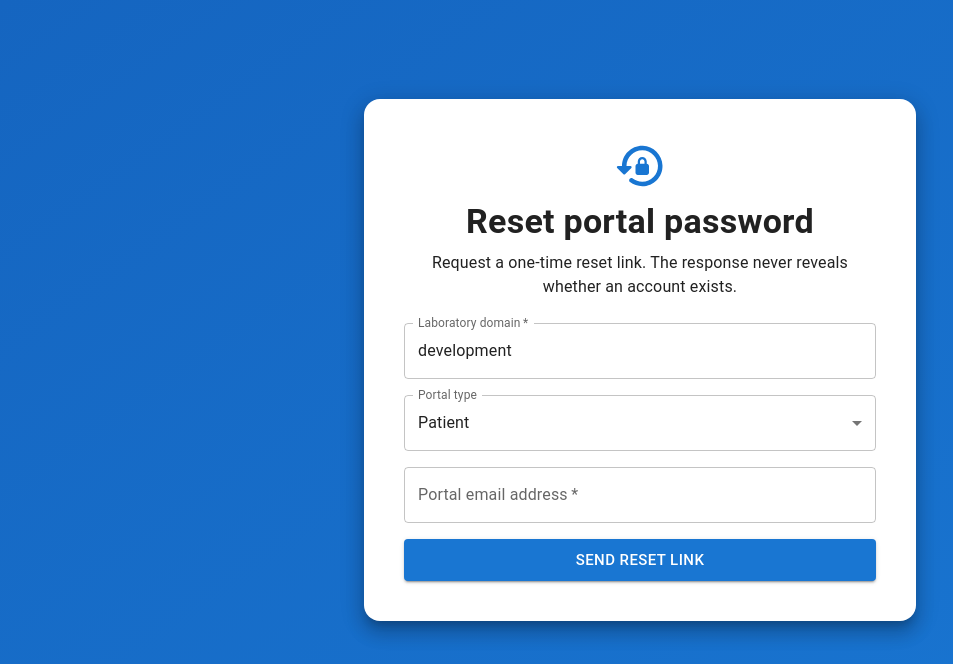
portal password reset › shows only the generic response for a reset request
The width and height of the screenshot is (953, 664).
Type "patient@example.test" into the field labelled "Portal email address *" at (640, 495), box [404,467,876,523]
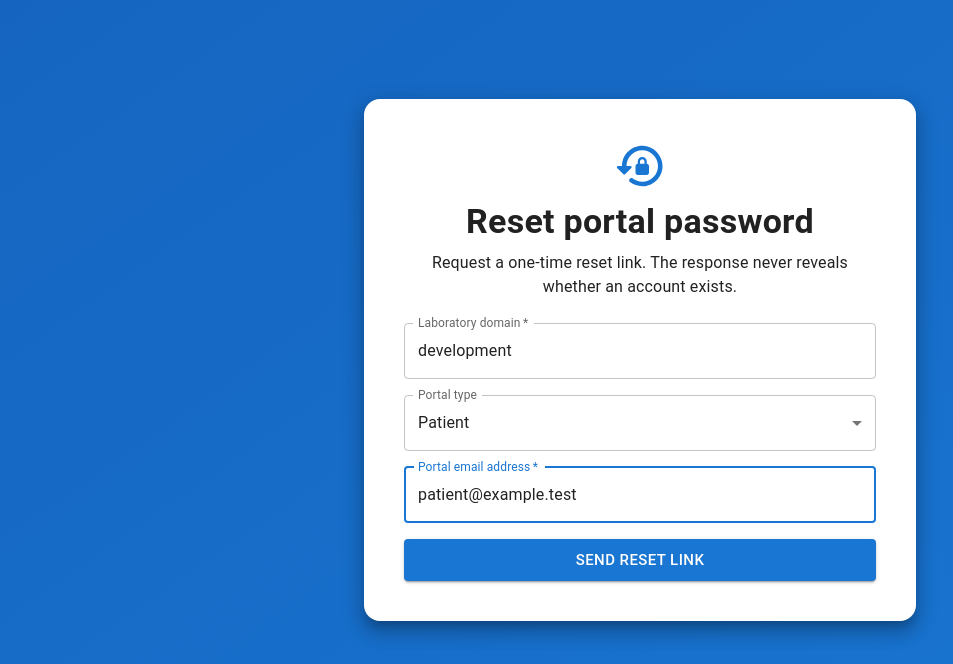
Click the button "Send reset link" at (640, 560), box [404,539,876,581]
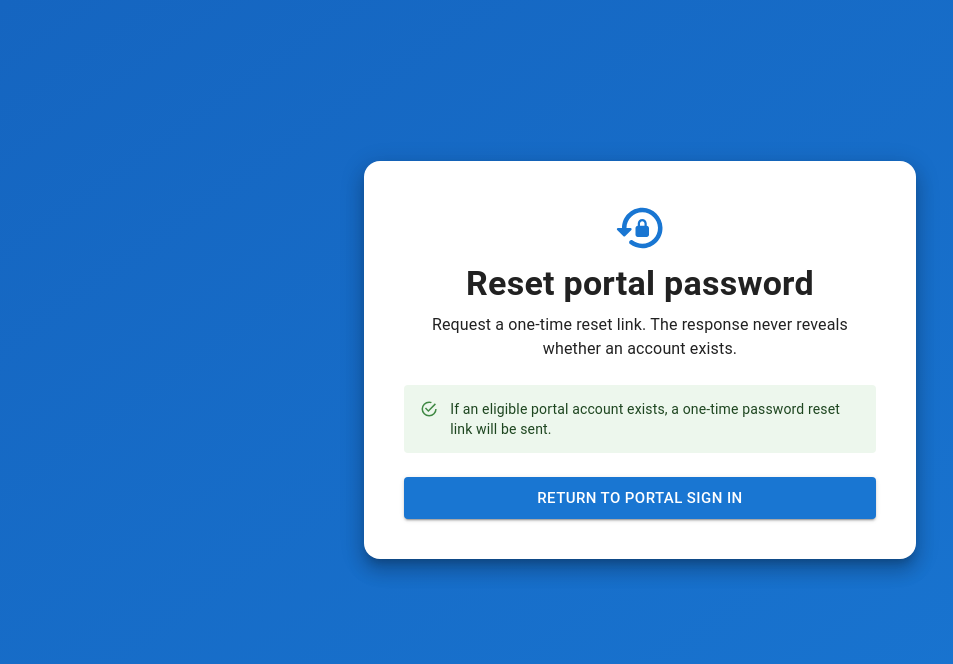
Now the text "If an eligible portal account exists" is shown, box [450,401,840,437]
